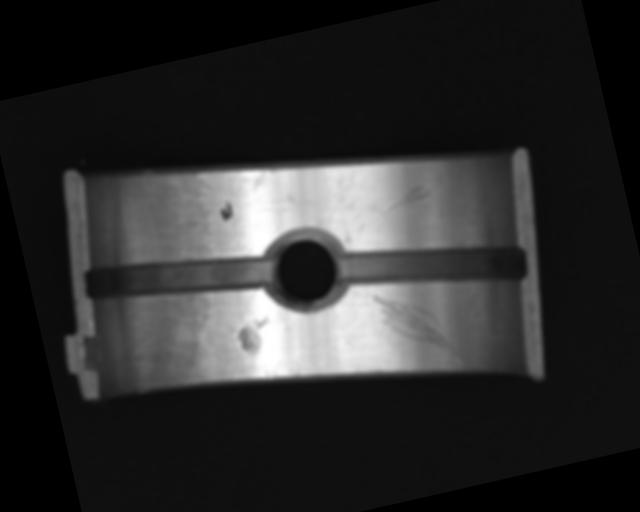blot: (218, 199, 234, 223)
bruise: (233, 316, 274, 357)
gap: (335, 215, 528, 316), (80, 229, 275, 322)
hole: (261, 223, 349, 315)
nick: (371, 278, 466, 379), (370, 184, 432, 215)
